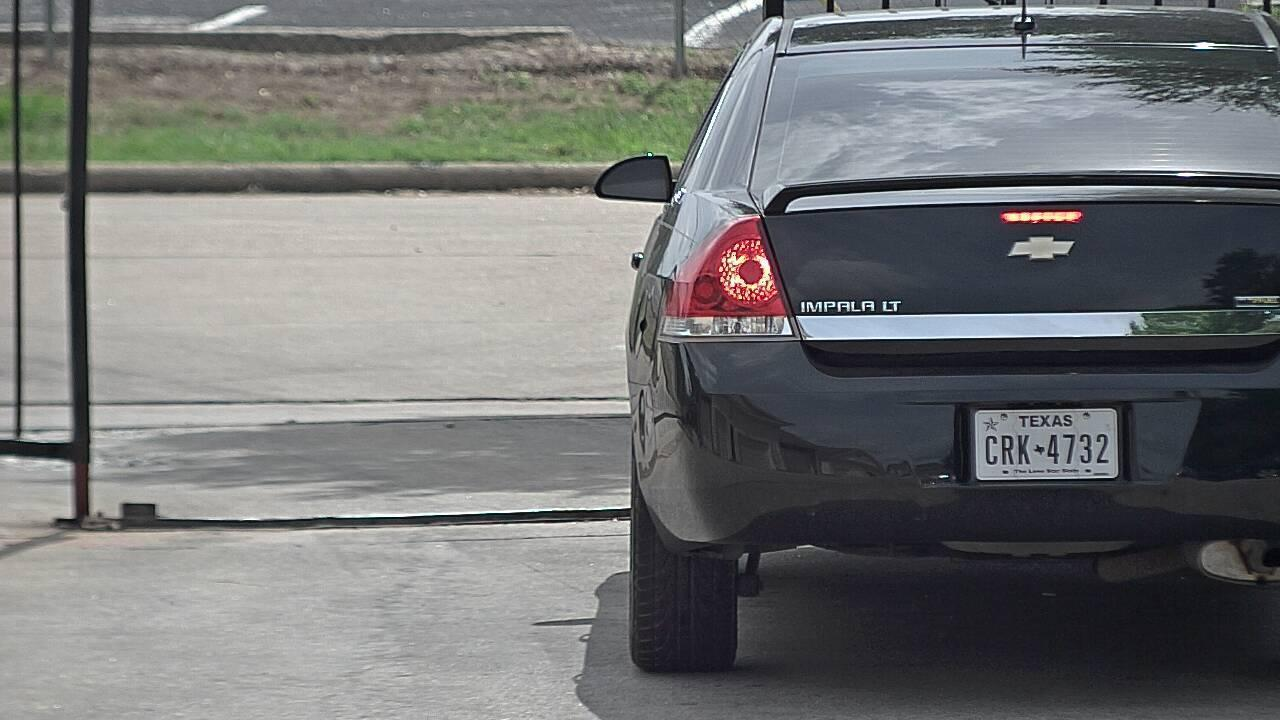placa de veiculo: (943, 385, 1139, 490)
